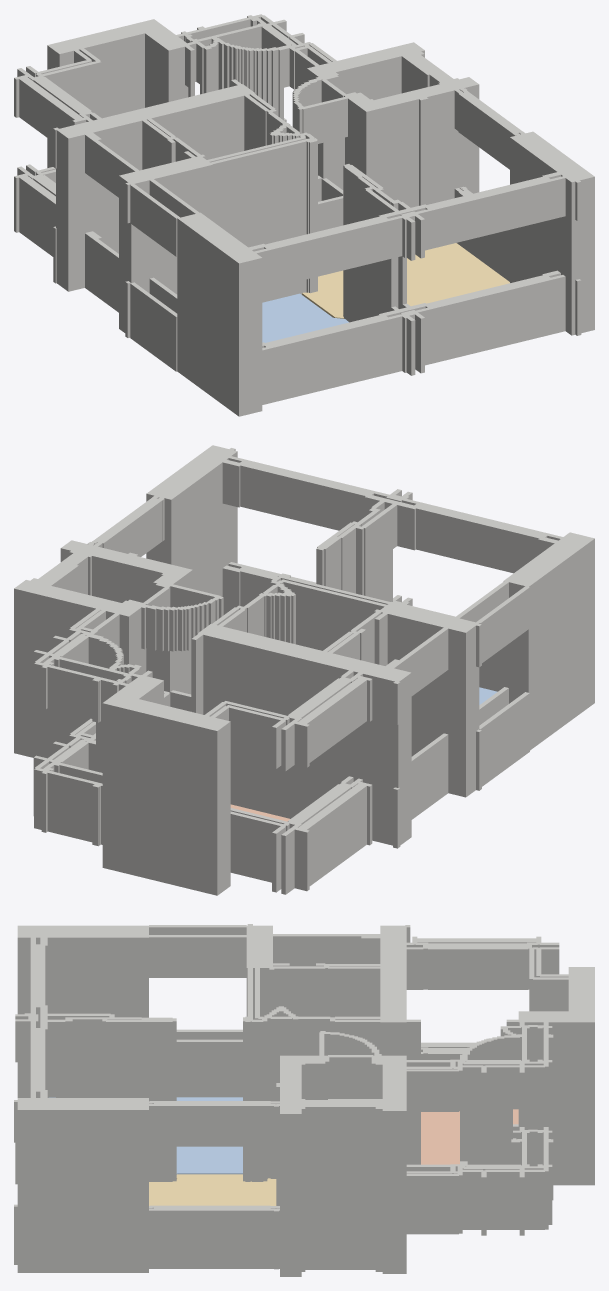
3 renders of one model, top to bottom at view 1: azimuth 30°, elevation 25°; view 2: azimuth 150°, elevation 25°; view 3: azimuth 270°, elevation 25°, orthographic. The views are drawn at different scales.
Parts seen in each view (by area): view 1: walls, room:living:5, room:bedroom:3; view 2: walls; view 3: walls, room:living:5, room:bedroom:3, room:kitchen:0.
Part boxes in pixels (left/top/right/bottom): walls: left=14, top=14, right=594, bottom=416; room:living:5: left=302, top=243, right=509, bottom=318; room:bedroom:3: left=262, top=293, right=348, bottom=342; walls: left=14, top=445, right=594, bottom=895; walls: left=14, top=924, right=594, bottom=1276; room:living:5: left=149, top=1174, right=276, bottom=1205; room:bedroom:3: left=49, top=1097, right=242, bottom=1174; room:kitchen:0: left=421, top=1109, right=518, bottom=1164.
Bounding box in the file's own units: 7.01 × 2.8 × 9.06.
